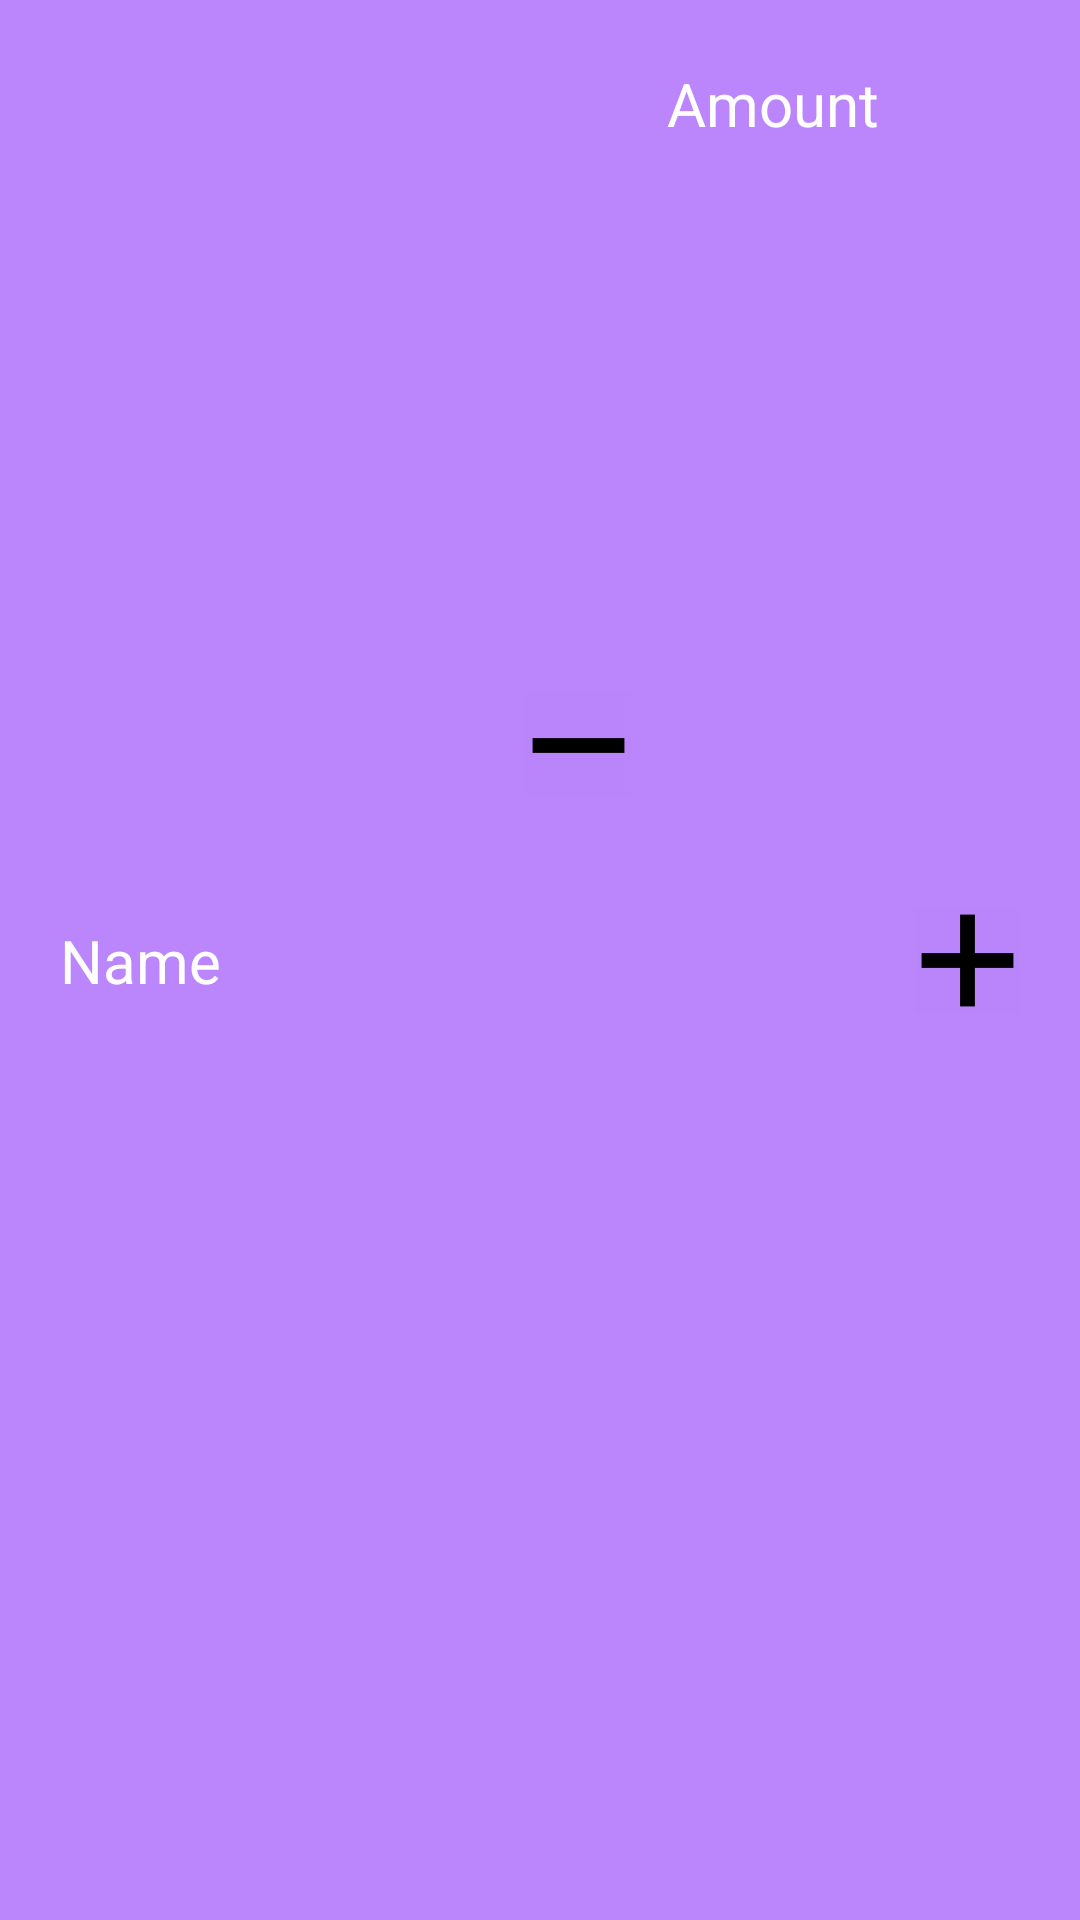

Where icons sit on this 1080w x 1920h app screen, as (x1, y1, x2, y2):
plus: (921, 914, 1014, 1007)
